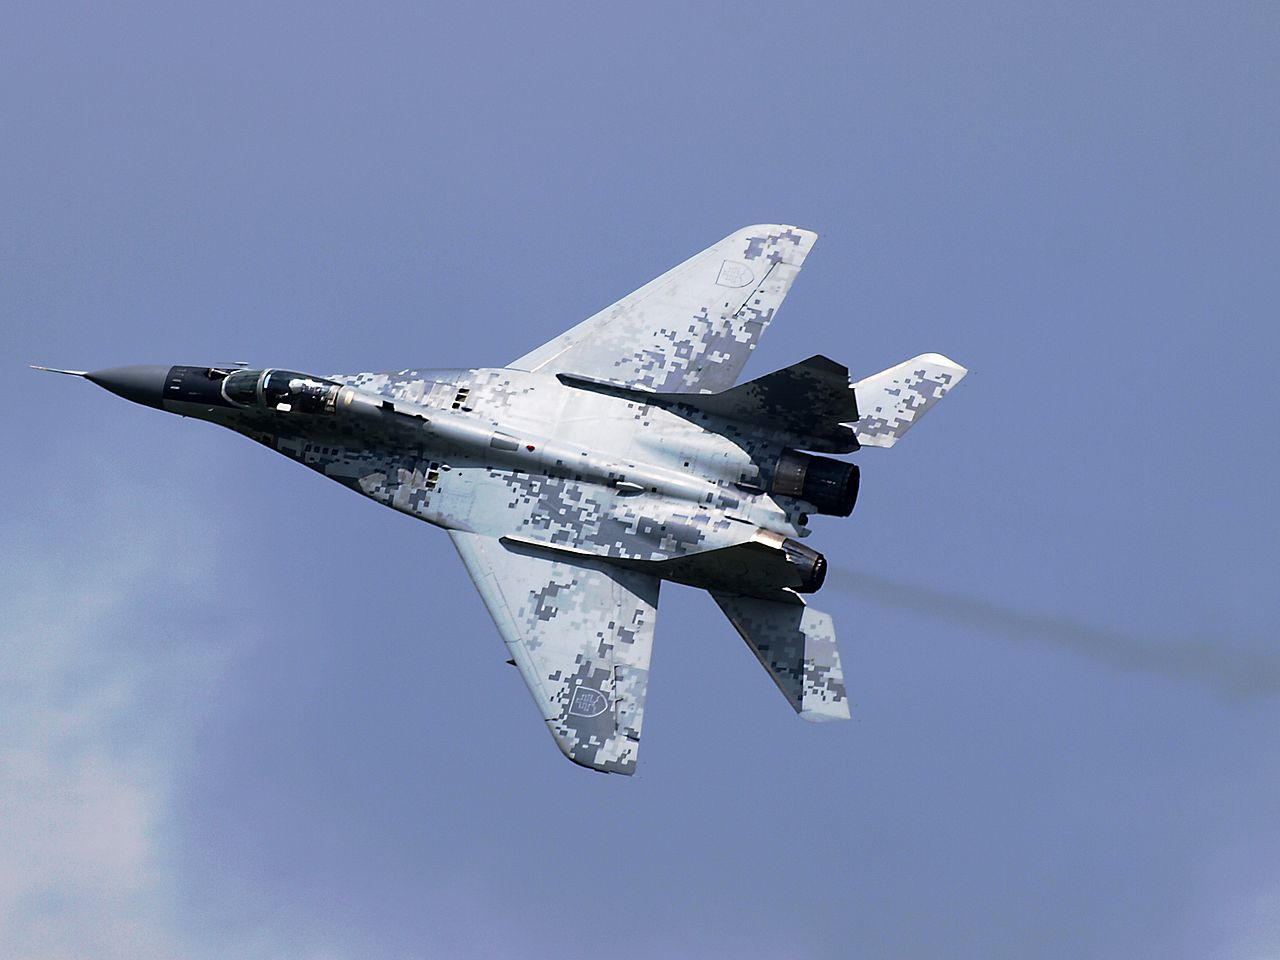Mig-29: (29, 191, 1059, 809)
